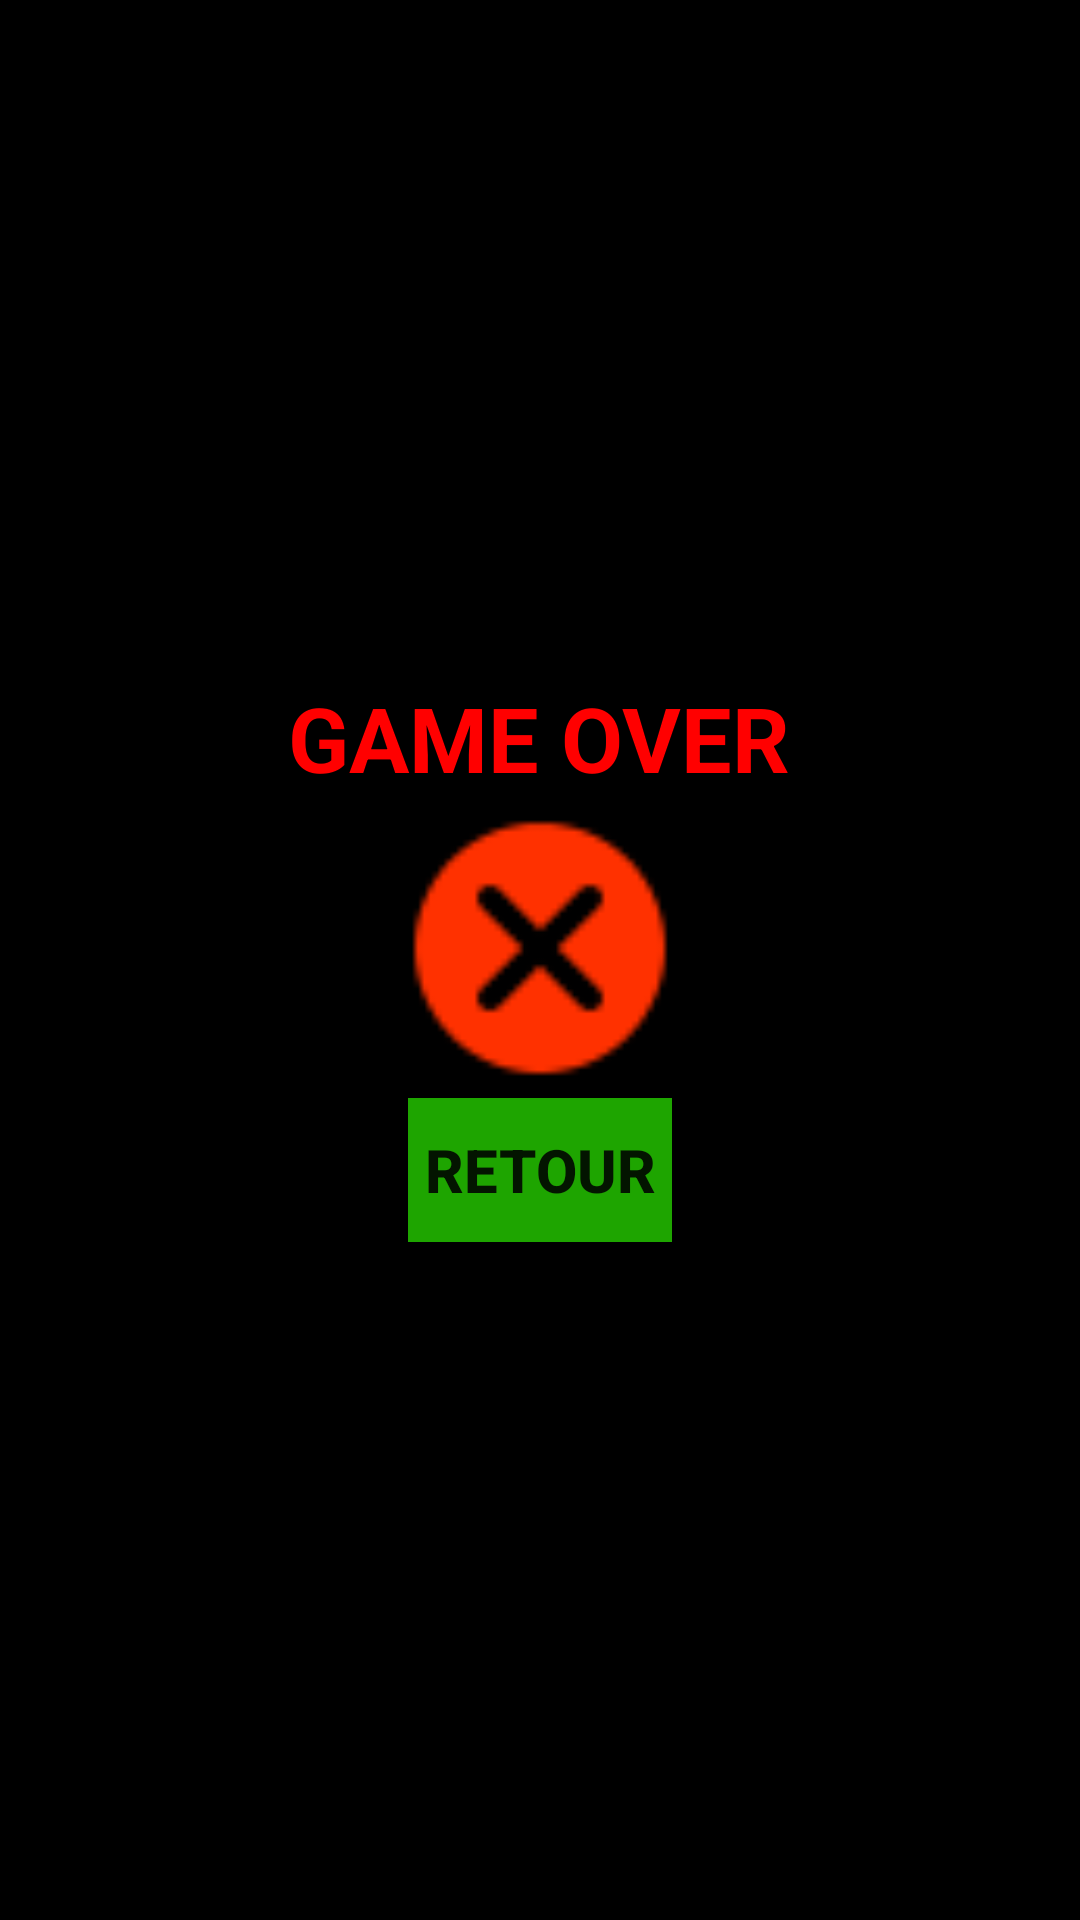

Named icons in this screenshot (1080w x 1920h) and their centers, (x=x, y=y):
fail: (x=540, y=948)
